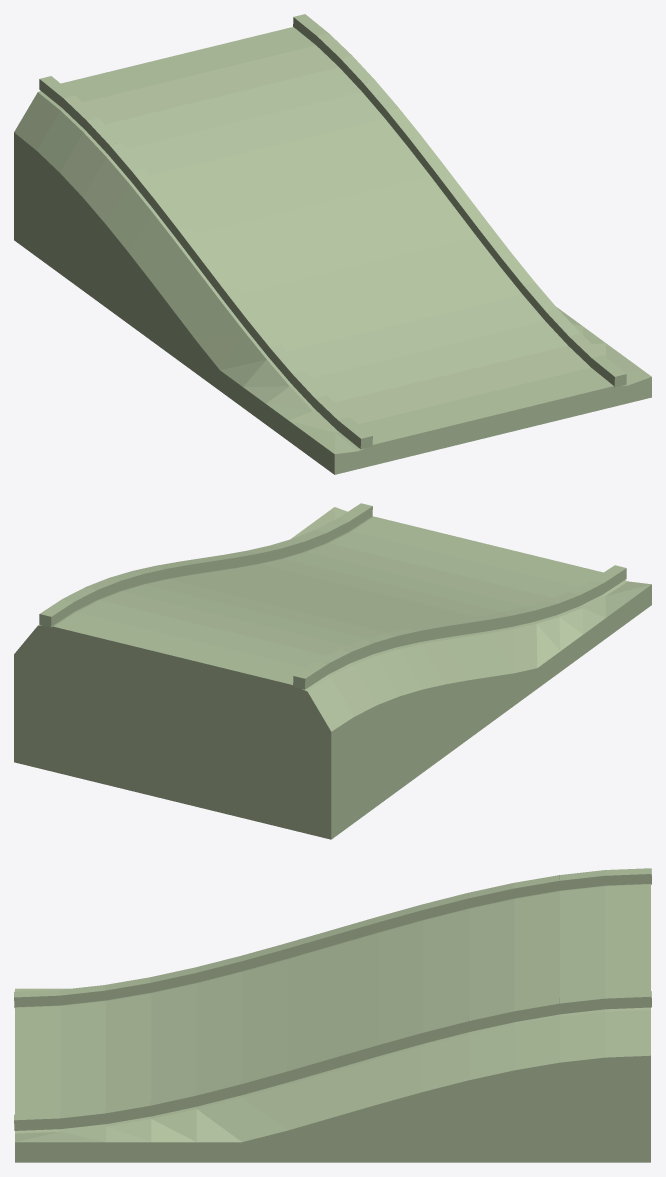
Rendered from ramp_dirt.fbx.
3 views of the same model, one above another, from view 1: azimuth 30°, elevation 25°; view 2: azimuth 150°, elevation 25°; view 3: azimuth 270°, elevation 25° (orthographic).
Visible parts, largest first — view 1: ramp_dirt; view 2: ramp_dirt; view 3: ramp_dirt.
Part boxes in pixels (box(x1,y1,x2,y2)): ramp_dirt: box(14, 14, 651, 474); ramp_dirt: box(14, 503, 651, 839); ramp_dirt: box(14, 868, 651, 1162).
Size of the model in its own units: 8 by 3.73 by 14.05.
